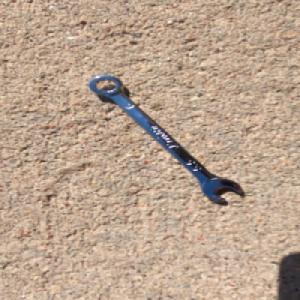Wrench: (88, 74, 246, 203)
